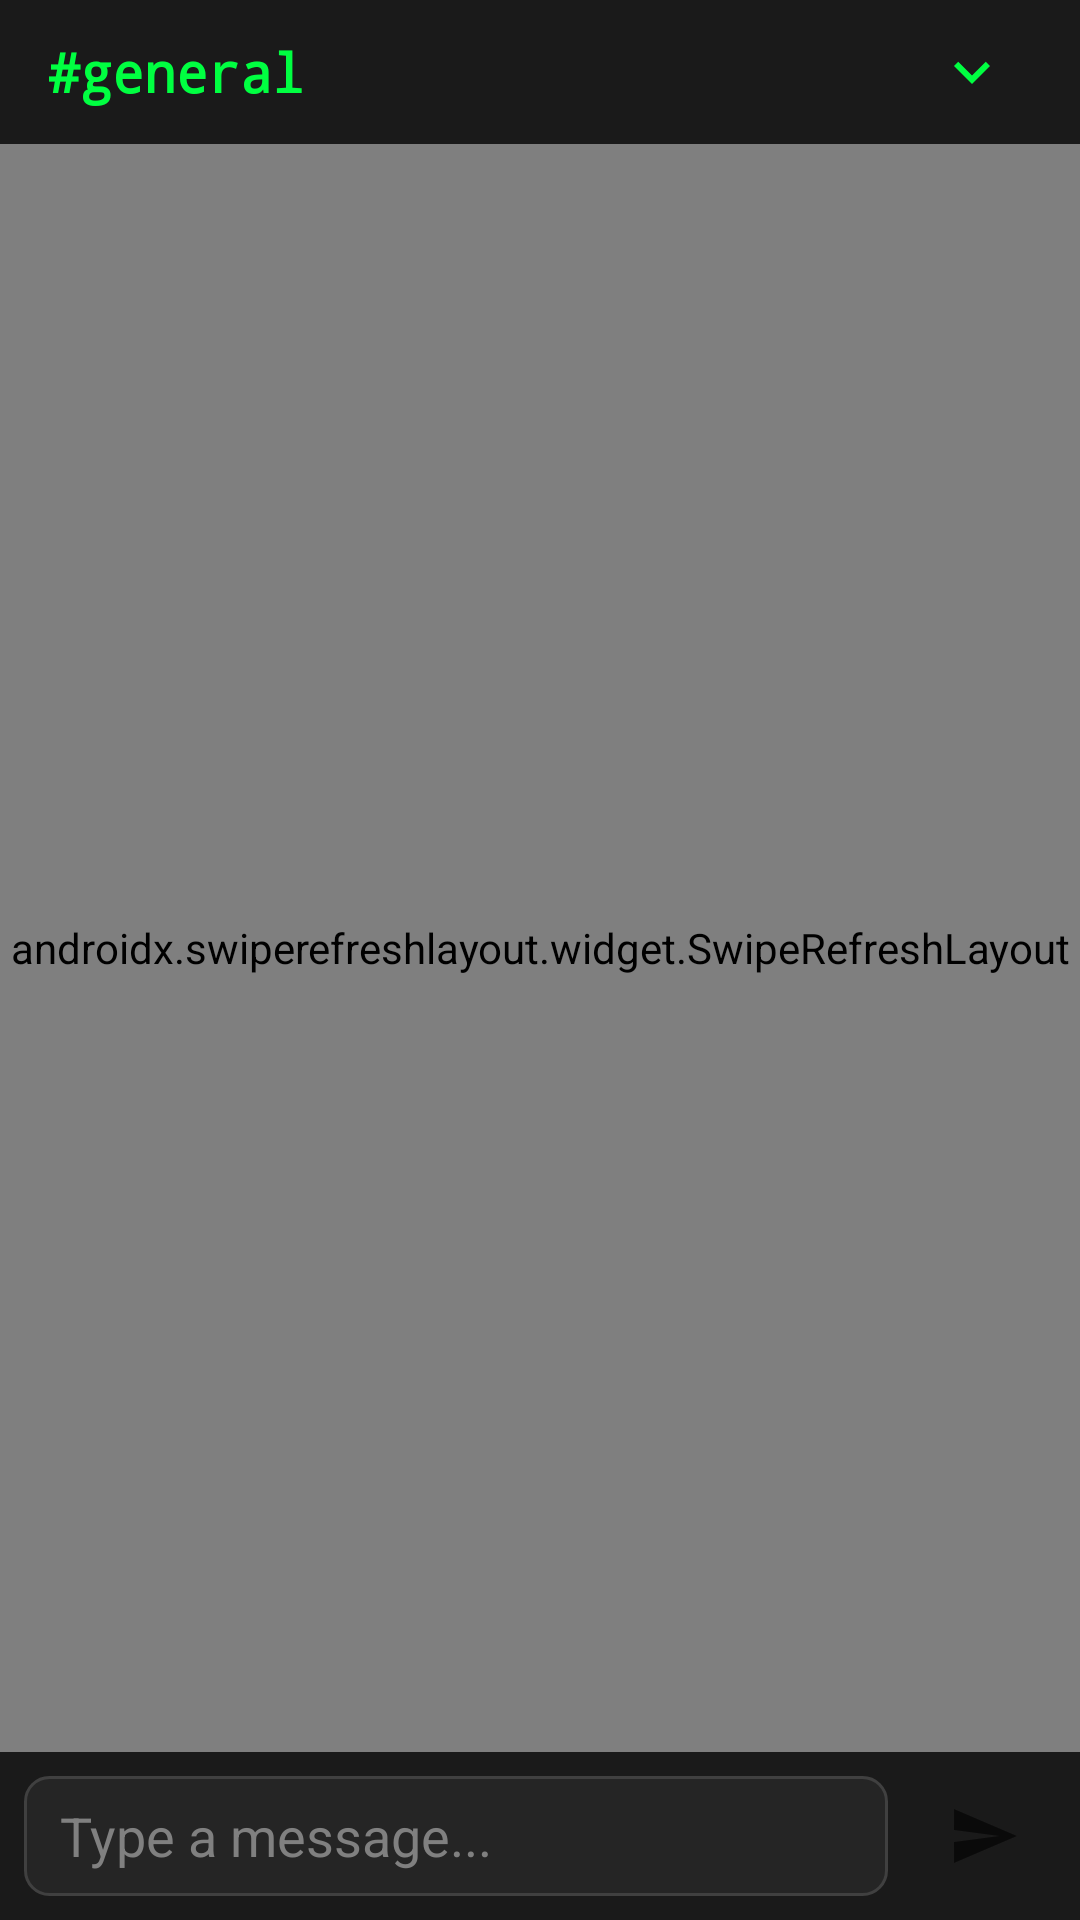

Where icons sit on this 1080w x 1920h app screen, as (x1, y1, x2, y2):
Select room: (954, 62, 990, 84)
